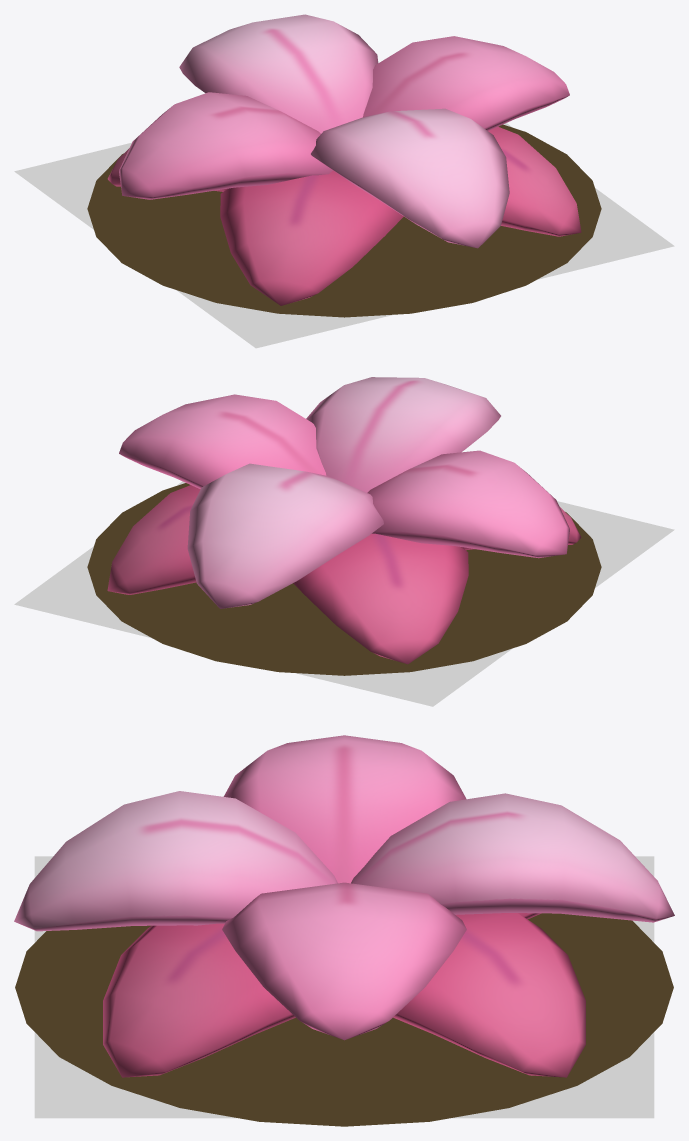
The model's file is JP_FlowerB.fbx.
3 views of the same model, one above another, from view 1: azimuth 30°, elevation 25°; view 2: azimuth 150°, elevation 25°; view 3: azimuth 270°, elevation 25° (orthographic). The views are drawn at different scales.
Visible parts, largest first — view 1: polySurface2, Shadow, FlowerB_Grid; view 2: polySurface2, Shadow, FlowerB_Grid; view 3: polySurface2, Shadow, FlowerB_Grid.
Part boxes in pixels (left/top/right/bottom): polySurface2: left=107, top=14, right=581, bottom=305; Shadow: left=87, top=124, right=601, bottom=317; FlowerB_Grid: left=14, top=123, right=674, bottom=348; polySurface2: left=107, top=377, right=581, bottom=664; Shadow: left=87, top=483, right=601, bottom=675; FlowerB_Grid: left=14, top=481, right=674, bottom=706; polySurface2: left=14, top=735, right=674, bottom=1077; Shadow: left=15, top=913, right=673, bottom=1126; FlowerB_Grid: left=34, top=856, right=654, bottom=1118.
Bounding box in the file's own units: 1.06 × 0.3025 × 1.07.
